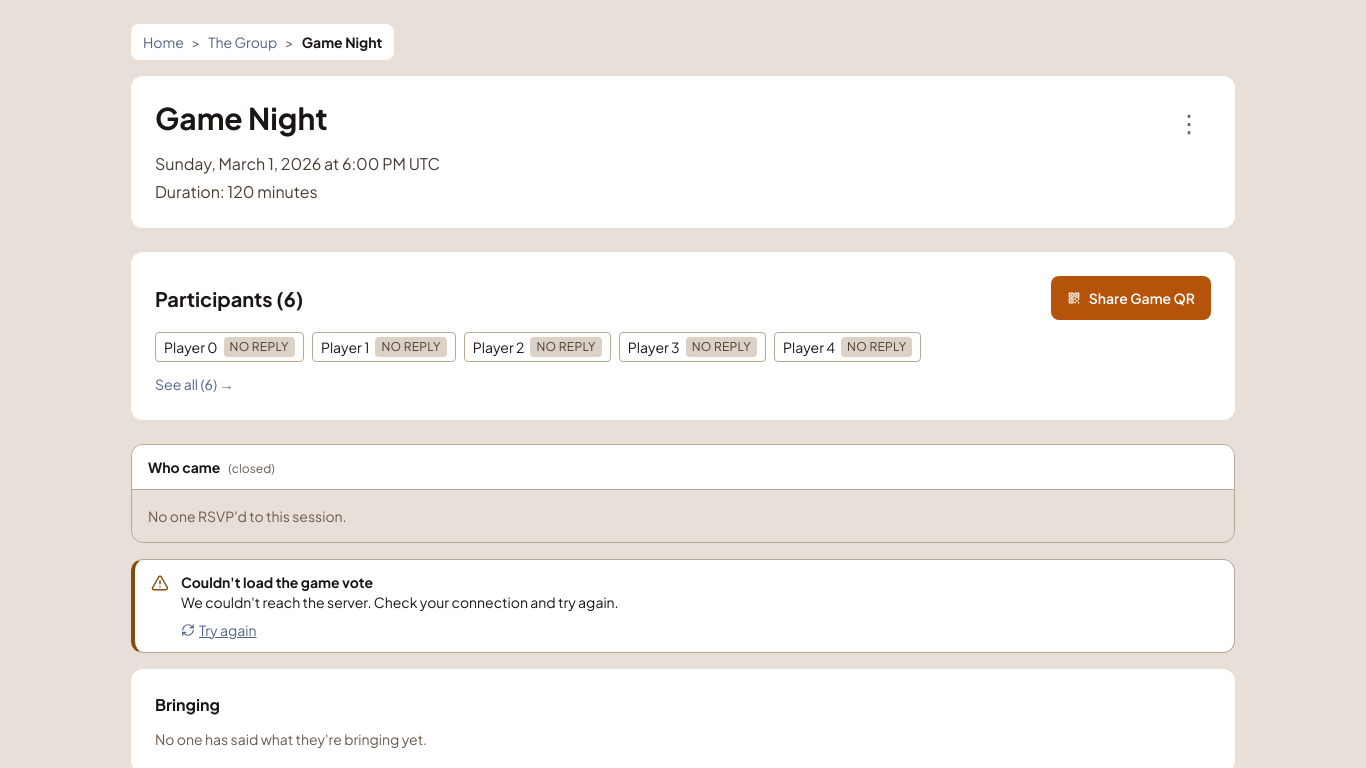
Test case: gameDetail two-tap participant remove inside the Modal (Phase 65-02) › arms on the first click and deletes nothing yet, announcing the target
The width and height of the screenshot is (1366, 768).
Click the button "See all (6) →": (194, 384) [155, 374, 234, 394]
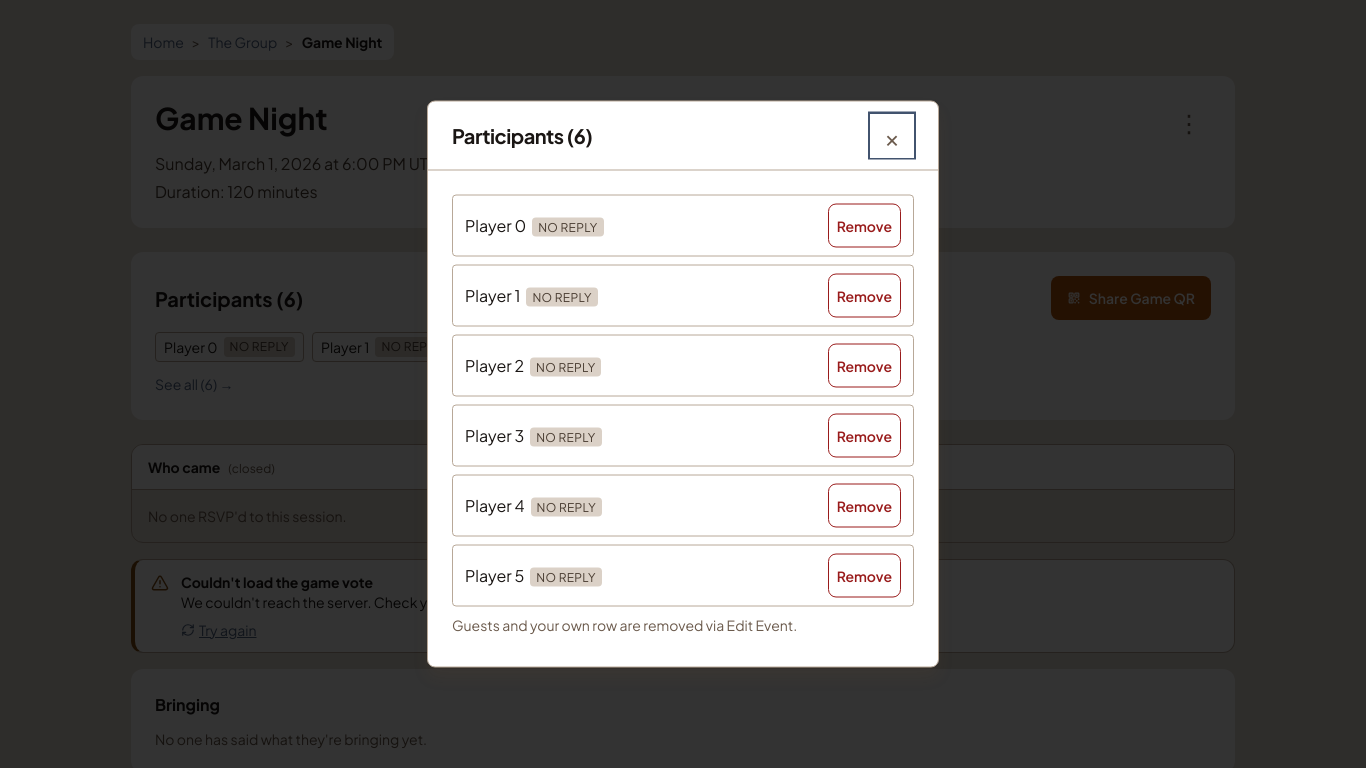
Click the 1st button "Remove": (864, 226) [828, 204, 901, 248]
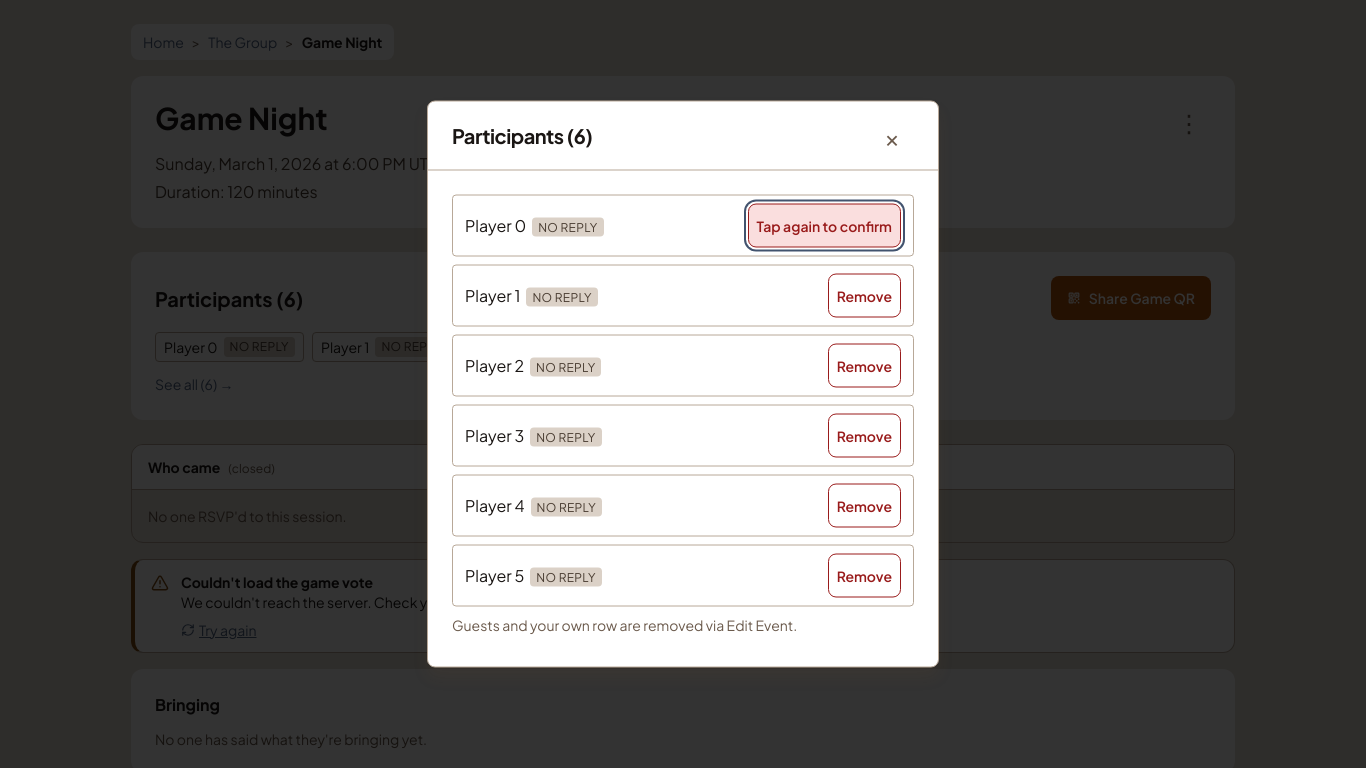
Expected: the button "Tap again to confirm" is shown, [748, 204, 901, 248]
